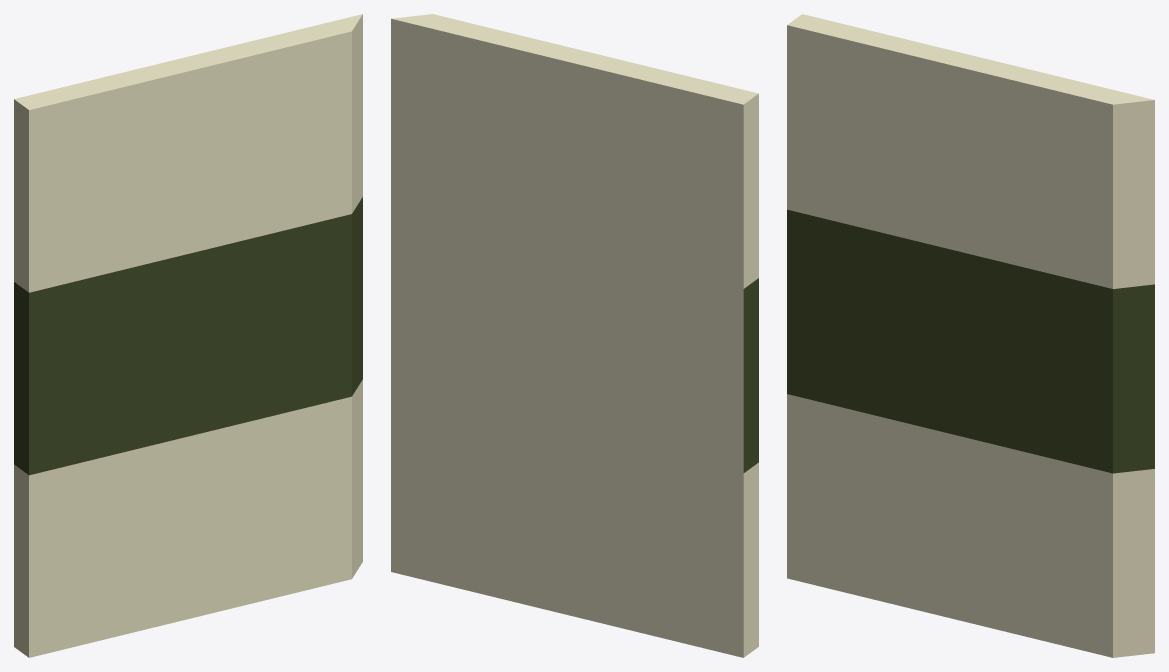
The model's file is InteriorWall_Plain_R45_ExportPrep.gltf.
3 renders of one model, left to right at view 1: azimuth 30°, elevation 25°; view 2: azimuth 150°, elevation 25°; view 3: azimuth 330°, elevation 25°, orthographic.
Visible parts, largest first — view 1: InteriorWall_Plain_R45; view 2: InteriorWall_Plain_R45; view 3: InteriorWall_Plain_R45.
Part boxes in pixels (box(x1,y1,x2,y2)): InteriorWall_Plain_R45: box(14, 14, 362, 657); InteriorWall_Plain_R45: box(391, 14, 758, 657); InteriorWall_Plain_R45: box(787, 14, 1154, 657).
Size of the model in its own units: 2 by 3 by 0.15.
